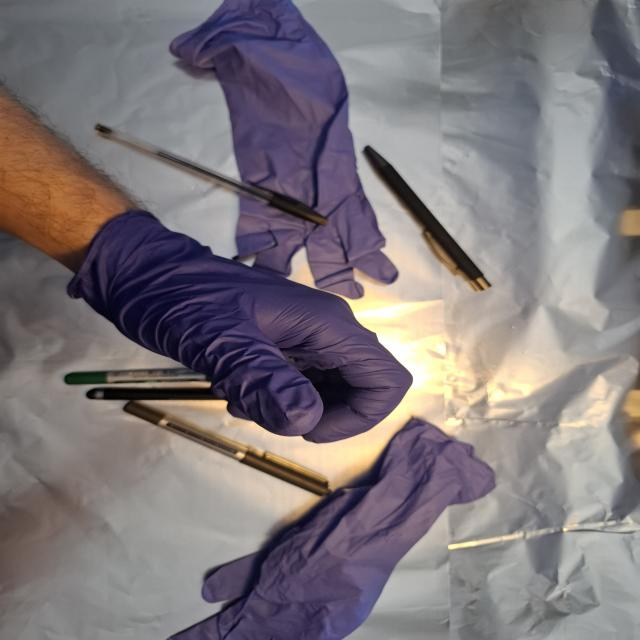glove_on: (71, 210, 418, 447)
